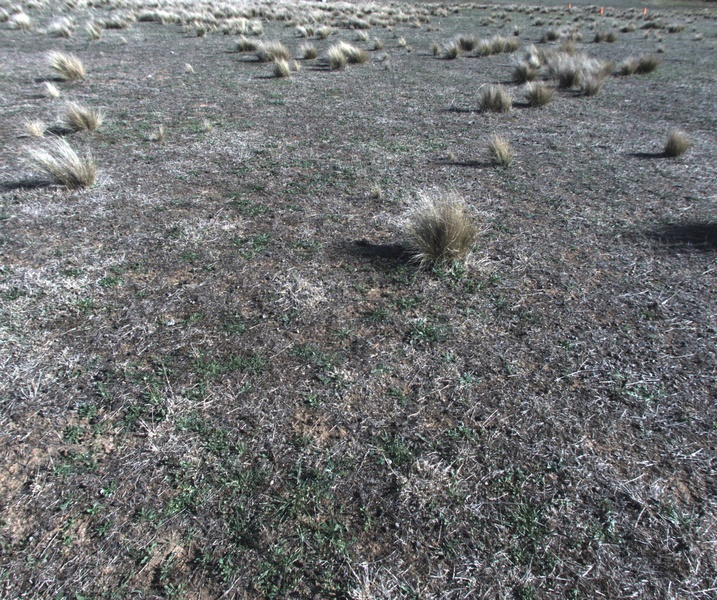st: (391, 187, 474, 288), (20, 138, 107, 192), (553, 50, 604, 95), (61, 99, 102, 138), (655, 124, 691, 161), (485, 136, 514, 176), (52, 47, 84, 82), (474, 85, 512, 113), (521, 84, 554, 111), (258, 40, 288, 66), (338, 43, 370, 66), (516, 44, 542, 69), (506, 64, 532, 86), (26, 113, 46, 140), (475, 38, 497, 62), (272, 59, 294, 82), (326, 47, 345, 70), (438, 37, 458, 57), (236, 37, 261, 53), (84, 21, 104, 41), (491, 35, 509, 57), (46, 78, 62, 101), (460, 31, 477, 50), (622, 56, 636, 77), (653, 38, 668, 54), (195, 21, 207, 41), (393, 37, 407, 51), (354, 28, 367, 43), (367, 33, 381, 46)
